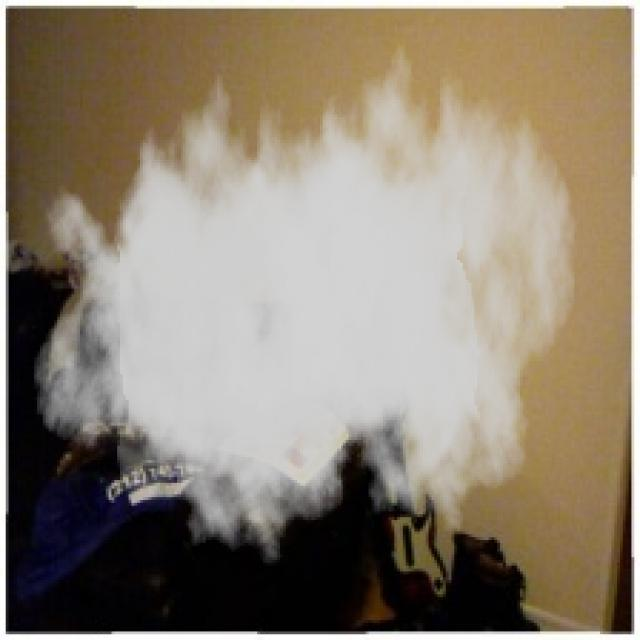smoke: (32, 17, 577, 574)
